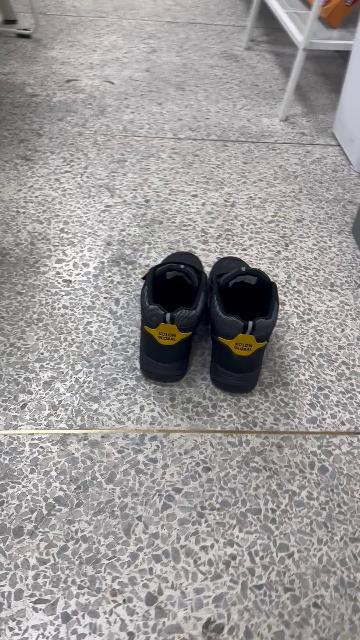shoe_worn: (210, 253, 283, 394), (134, 249, 209, 386)
